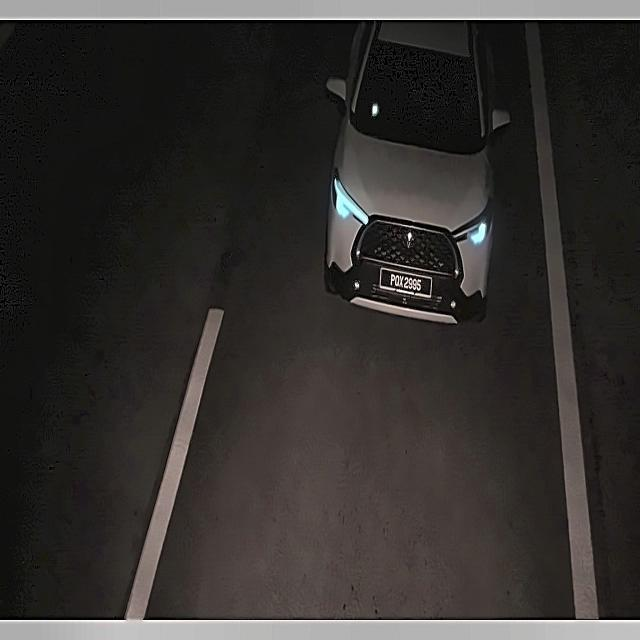car: (378, 262, 438, 305)
